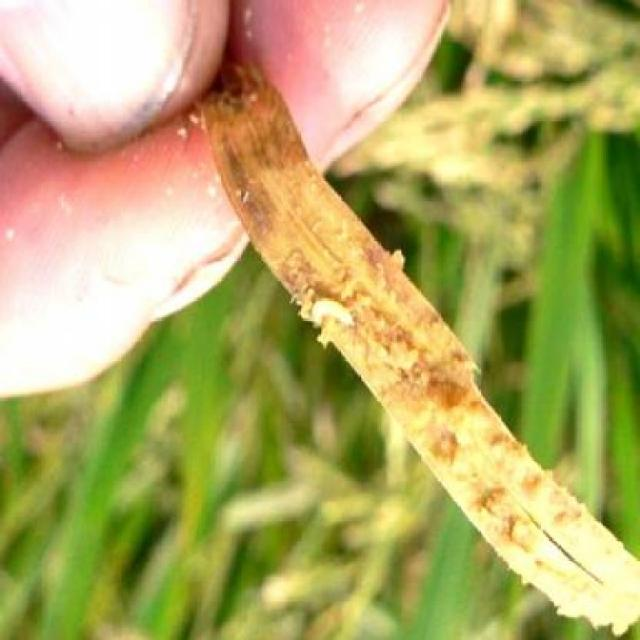whorl-maggot: (309, 290, 363, 348)
